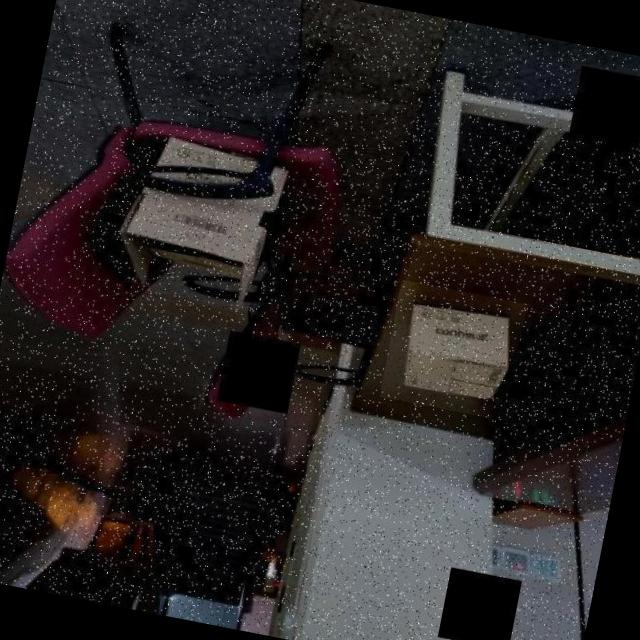box: (103, 122, 312, 319), (380, 280, 528, 421)
